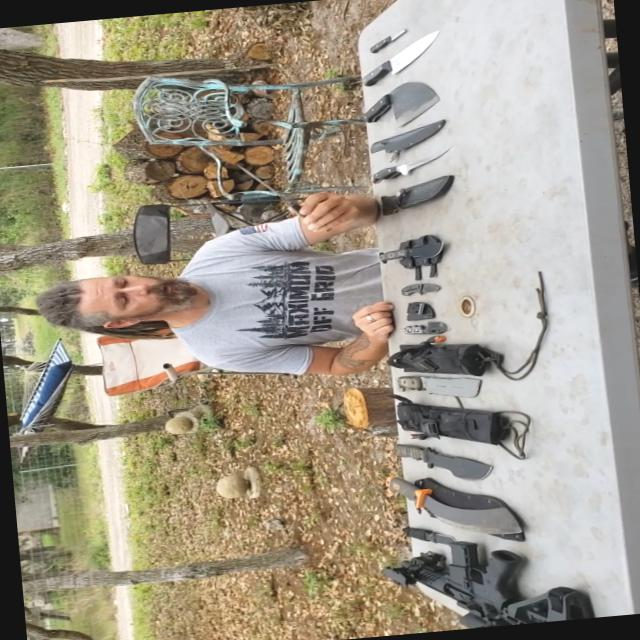knife: (373, 466, 529, 552), (219, 156, 328, 235), (374, 430, 494, 486), (342, 30, 436, 92), (386, 360, 496, 410), (345, 76, 443, 132), (381, 504, 472, 556), (360, 226, 465, 269), (351, 140, 458, 182), (384, 309, 460, 339), (355, 21, 413, 56), (388, 272, 452, 300)
long weapon: (385, 526, 584, 634)
